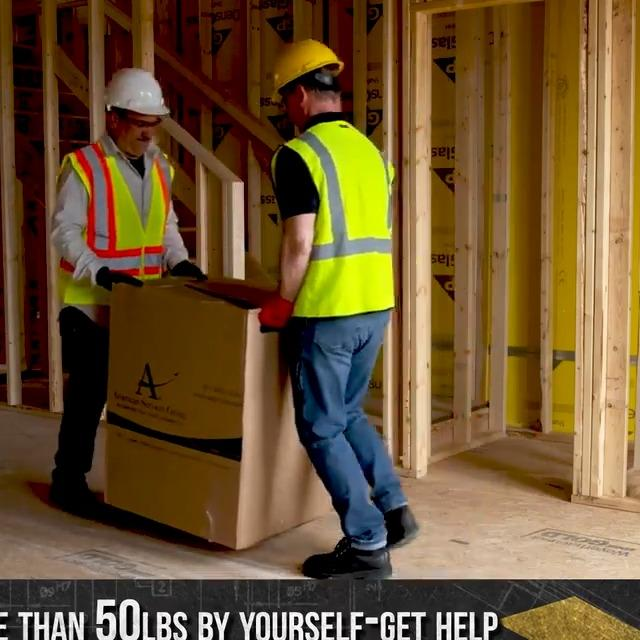Gloves: (258, 293, 296, 329), (97, 265, 145, 292), (173, 258, 209, 281)
Hardhat: (269, 36, 344, 101), (101, 66, 171, 117)
NO-Mask: (119, 135, 151, 155), (290, 100, 305, 129)
Person: (257, 35, 420, 580), (46, 66, 207, 508)
Safety Vest: (269, 119, 394, 317), (54, 139, 176, 306)
